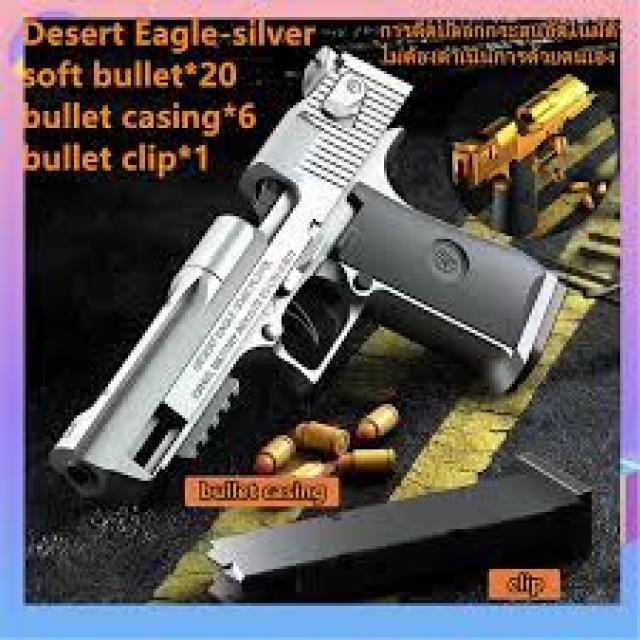semi automatic: (42, 32, 575, 516)
